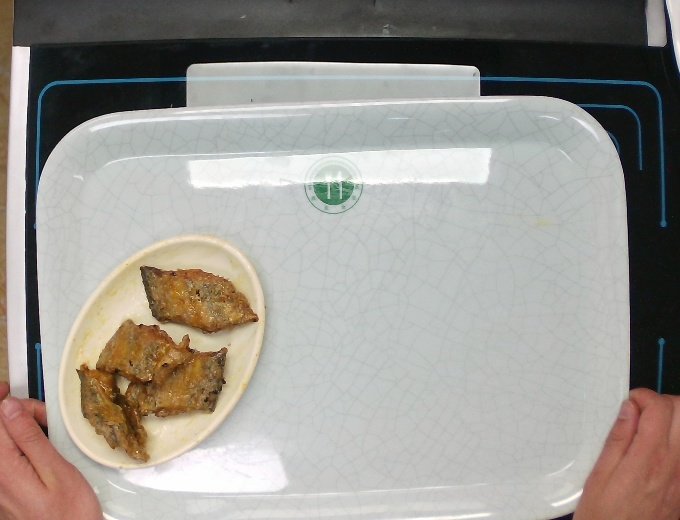JYsf-Tuo_Yuan_Wan: (52, 230, 269, 472)
